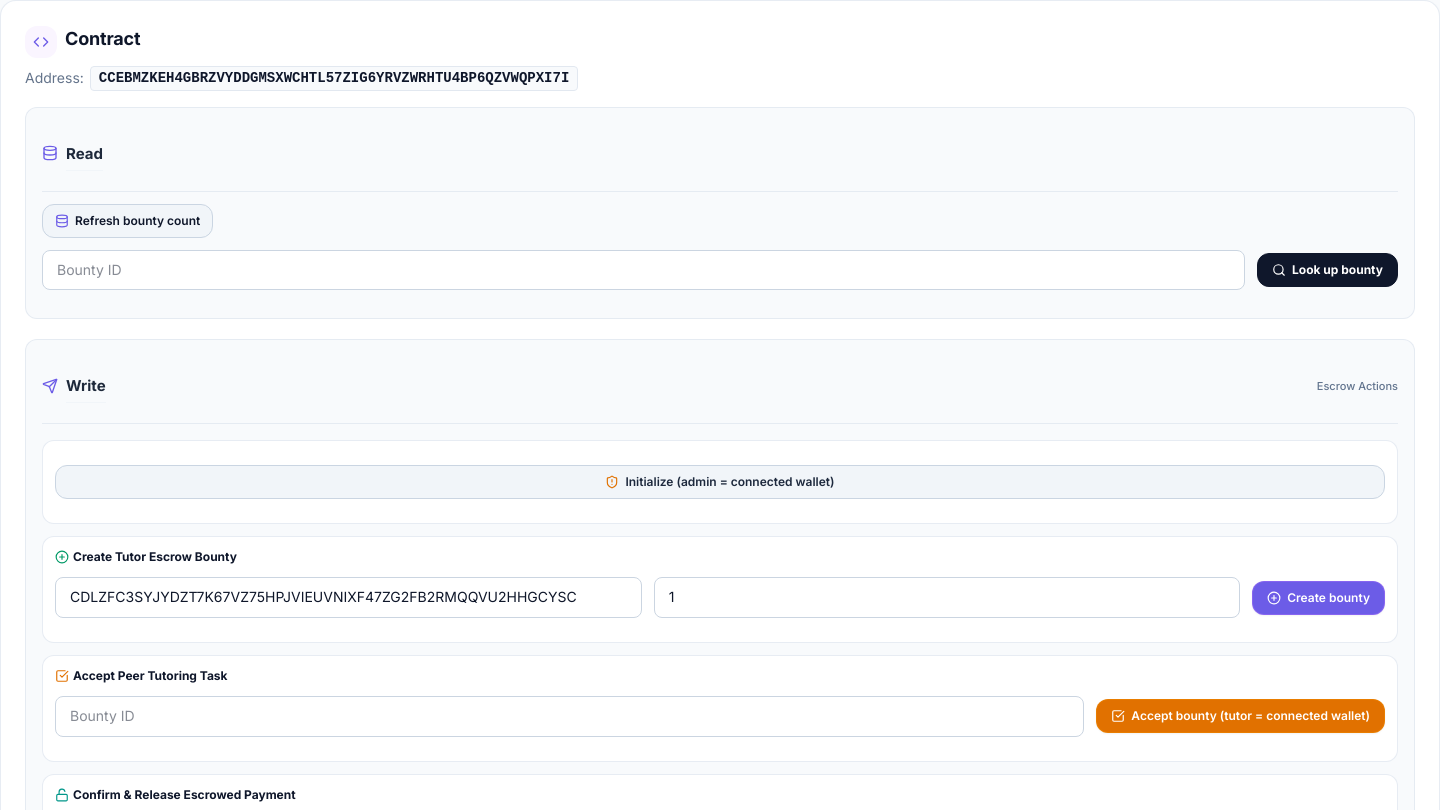
Test: ContractPanel › shows a Creating... label and disables other write actions while create_bounty is in flight
Click the button "Create bounty" at (1319, 598), box [1252, 581, 1385, 615]
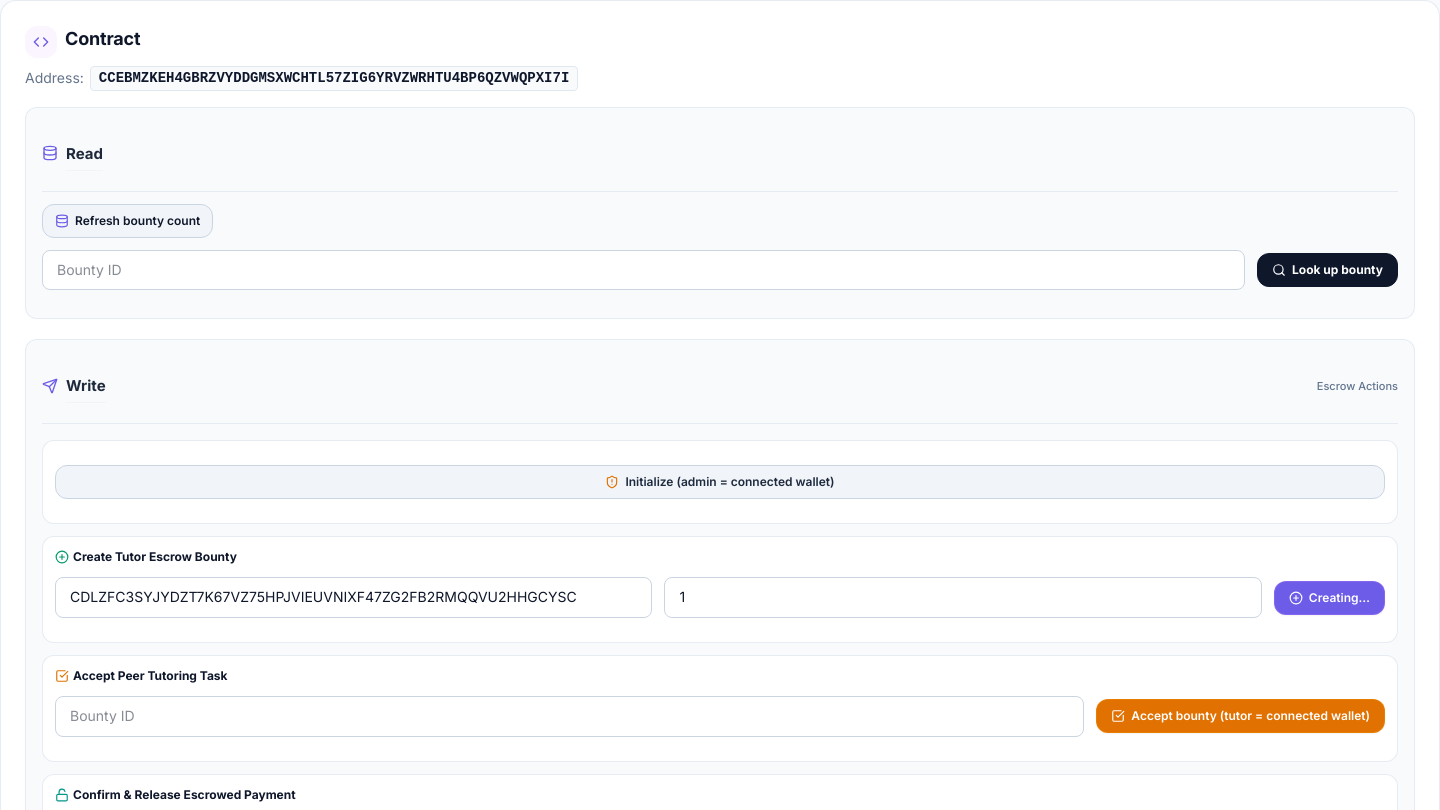
Expected: the button "Initialize (admin = connected wallet)" is disabled, [55, 465, 1385, 499]
Expected: the button "Creating…" is shown, [1274, 581, 1385, 615]
